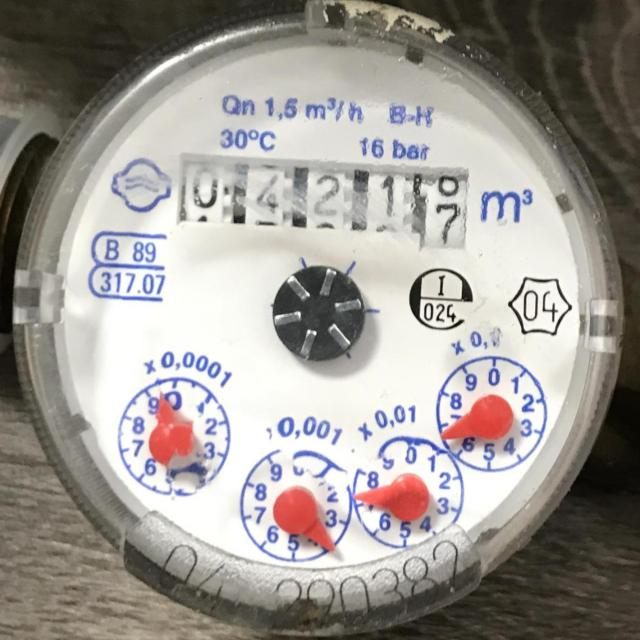gaz_meter: (7, 24, 622, 627)
indication: (175, 151, 472, 248)
